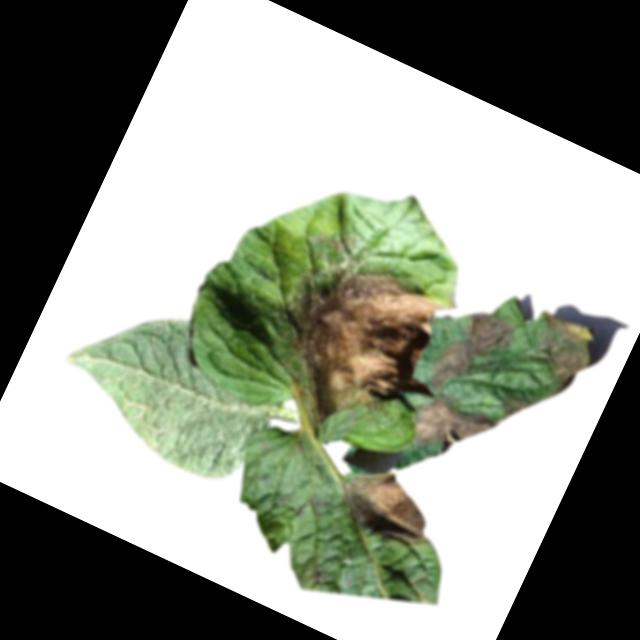Late_blight: (245, 239, 454, 465), (330, 458, 451, 557), (421, 298, 521, 414), (398, 385, 500, 474), (514, 305, 606, 395), (495, 389, 534, 429)
healthy: (42, 276, 300, 496)
